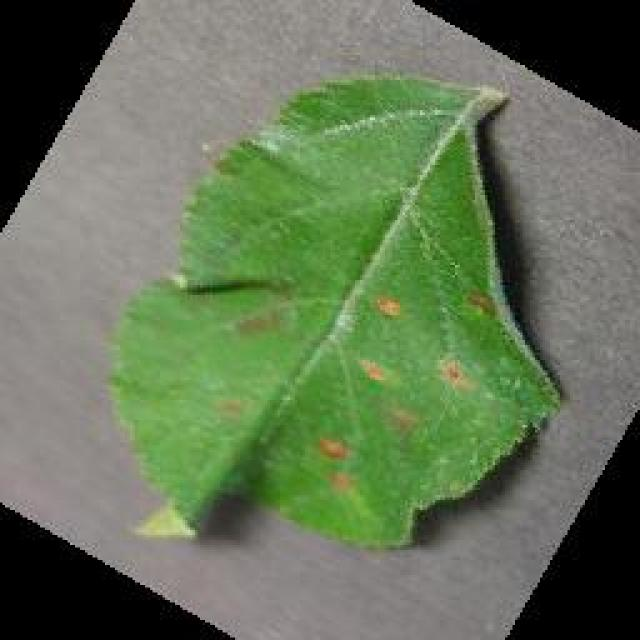apple cedar apple rust: (105, 68, 563, 550)
